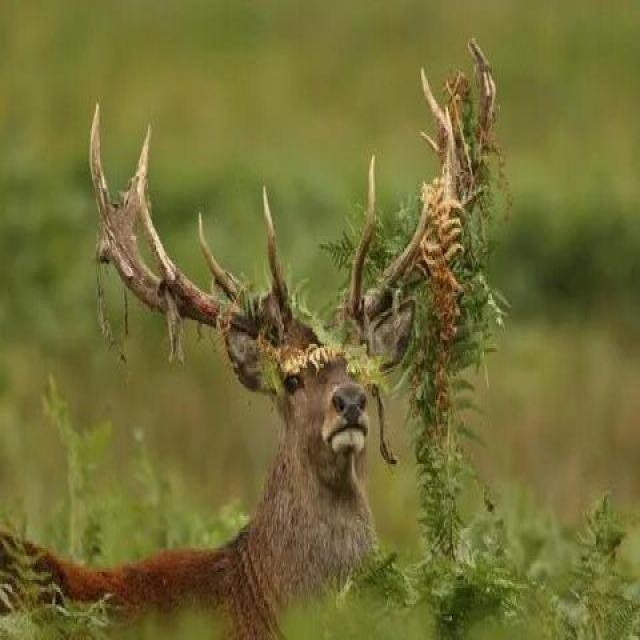deer: (104, 142, 399, 623)
